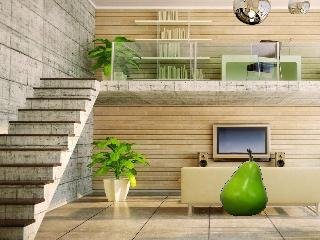pear: (217, 145, 275, 220)
